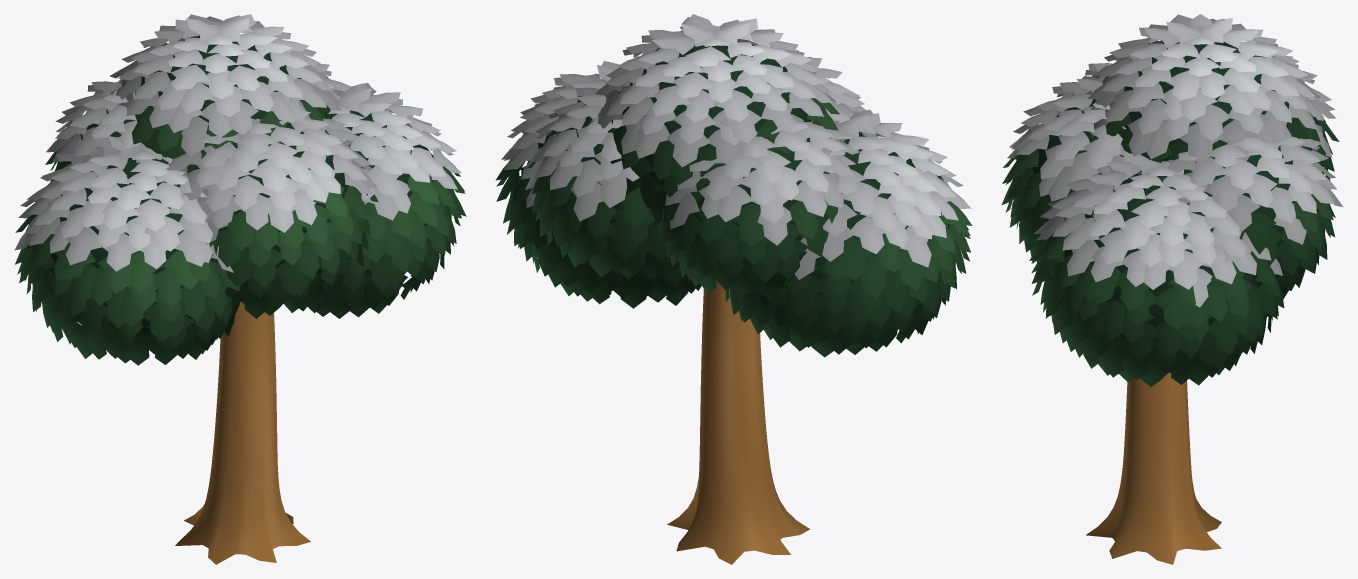
File: tree_grand_winter.glb
The picture shows the model from 3 angles, left to right: view 1: azimuth 30°, elevation 25°; view 2: azimuth 150°, elevation 25°; view 3: azimuth 270°, elevation 25°; orthographic projection. The views are drawn at different scales.
Parts seen in each view (by area): view 1: tree_grand_winter; view 2: tree_grand_winter; view 3: tree_grand_winter.
Part boxes in pixels (box(x1,y1,x2,y2)): tree_grand_winter: box(14, 14, 466, 564); tree_grand_winter: box(496, 14, 972, 564); tree_grand_winter: box(1001, 14, 1343, 564).
Bounding box in the file's own units: 5.58 × 6.32 × 3.86.
